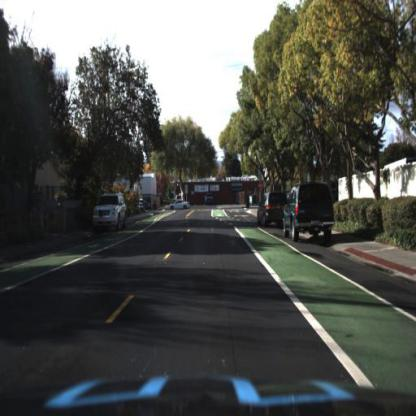car: (283, 179, 339, 244), (92, 191, 127, 231), (255, 191, 282, 229), (168, 197, 192, 213), (166, 199, 193, 213), (203, 190, 217, 207)
